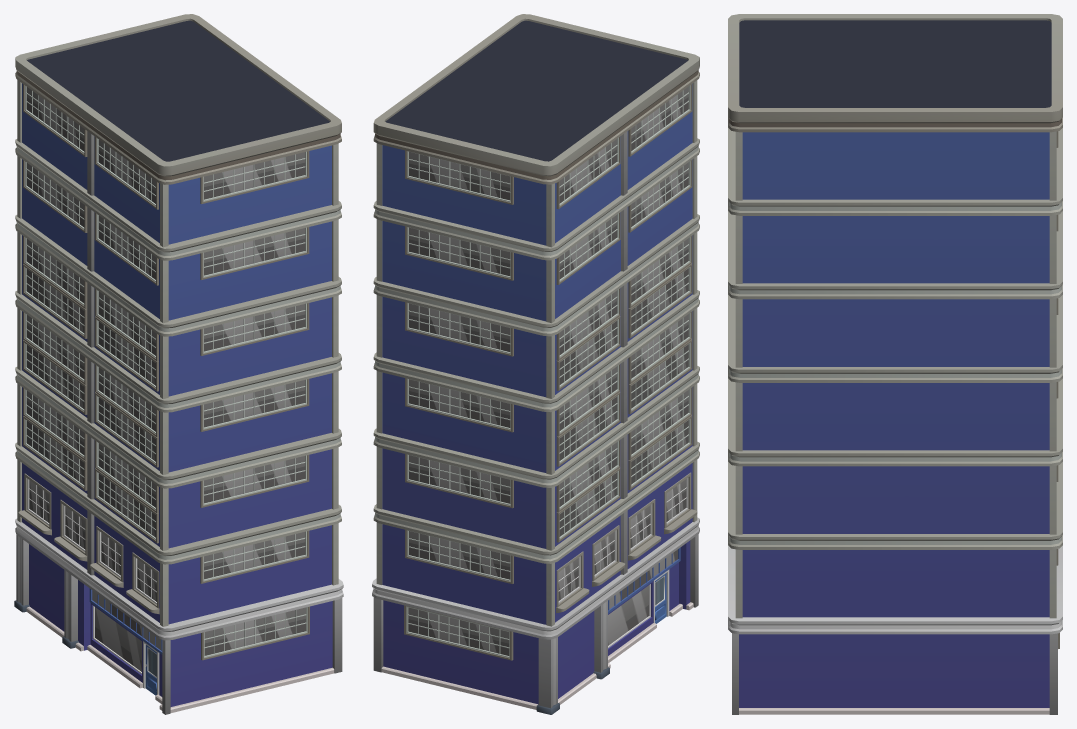
Rendered from Building_11_5_B.glb.
3 views of the same model, side by side, from view 1: azimuth 30°, elevation 25°; view 2: azimuth 150°, elevation 25°; view 3: azimuth 270°, elevation 25° (orthographic). The views are drawn at different scales.
Visible parts, largest first — view 1: Building_11_5_B; view 2: Building_11_5_B; view 3: Building_11_5_B.
Part boxes in pixels (x1,y1,x2,y2): Building_11_5_B: (14,14,343,714); Building_11_5_B: (372,14,699,714); Building_11_5_B: (728,14,1062,714).
Size of the model in its own units: 8.27 by 23.14 by 11.63.
Materials: 3 (3 with a texture image).
